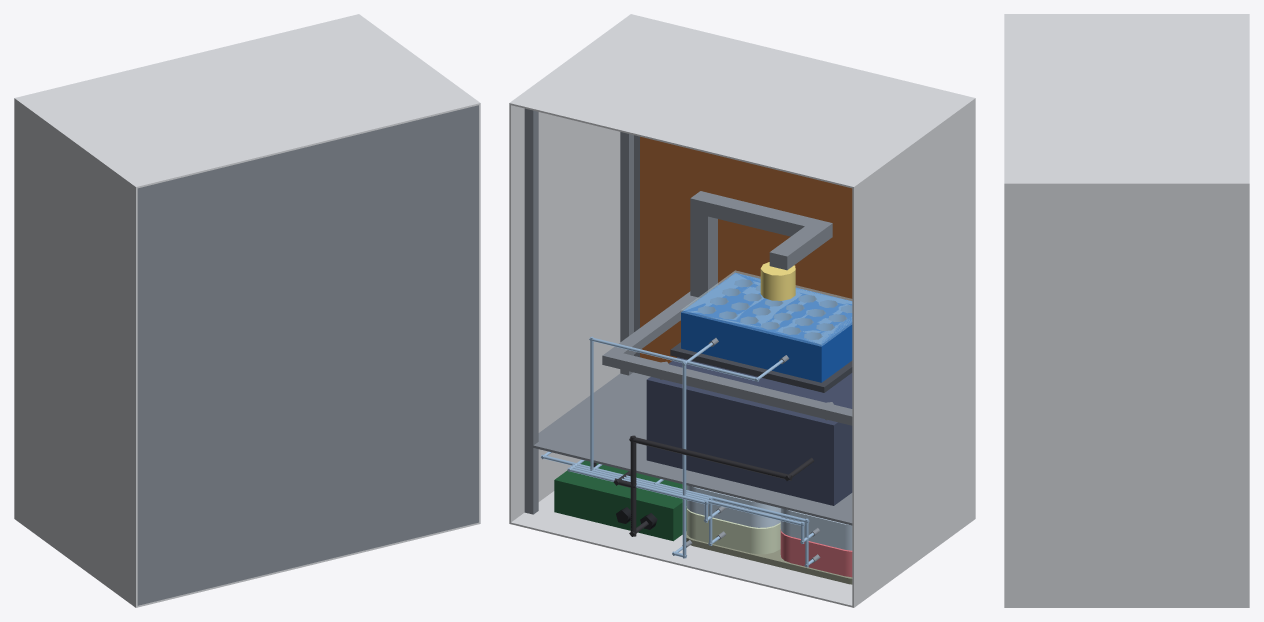
File: MOD-stem-cell-organoids.glb
The picture shows the model from 3 angles, left to right: view 1: azimuth 30°, elevation 25°; view 2: azimuth 150°, elevation 25°; view 3: azimuth 270°, elevation 25°; orthographic projection.
Visible parts, largest first — view 1: housing__back_panel_bay_interface, housing__side_panel_L, housing__top_panel, housing__bottom_panel, housing__side_panel_R; view 2: housing__side_panel_L, housing__top_panel, housing__side_panel_R, thermal__cold_wall_to_the_bay_s_thermoelectric_block, imaging__microscope_base_optics_filter_cubes_camera, sample__cassette_24_wells_SBS_footprint_19_3_mm_pitch, housing__shelf_1, housing__bottom_panel, sample__cassette_lid_sealed_and_gas_permeable, housing__corner_post_4, imaging__XY_stage_frame_travel_96_5_x_57_9_mm_every_well_ove, electronics__controller_enclosure_boards_data_storage (+17 smaller); view 3: housing__side_panel_R, housing__top_panel, housing__bottom_panel.
Part boxes in pixels (x1,y1,x2,y2): housing__back_panel_bay_interface: (137, 105, 478, 605); housing__side_panel_L: (14, 100, 137, 605); housing__top_panel: (14, 14, 480, 188); housing__bottom_panel: (14, 517, 480, 607); housing__side_panel_R: (479, 105, 480, 522); housing__side_panel_L: (852, 100, 975, 605); housing__top_panel: (509, 14, 975, 188); housing__side_panel_R: (509, 105, 620, 522); thermal__cold_wall_to_the_bay_s_thermoelectric_block: (640, 136, 852, 363); imaging__microscope_base_optics_filter_cubes_camera: (646, 357, 852, 505); sample__cassette_24_wells_SBS_footprint_19_3_mm_pitch: (681, 272, 852, 382); housing__shelf_1: (524, 372, 852, 525); housing__bottom_panel: (509, 491, 975, 607); sample__cassette_lid_sealed_and_gas_permeable: (681, 270, 852, 346); housing__corner_post_4: (524, 108, 538, 514); imaging__XY_stage_frame_travel_96_5_x_57_9_mm_every_well_ove: (602, 291, 852, 425); electronics__controller_enclosure_boards_data_storage: (554, 460, 686, 541); housing__side_panel_R: (1004, 185, 1249, 606); housing__top_panel: (1004, 14, 1249, 185); housing__bottom_panel: (1004, 606, 1249, 607).
Size of the model in its own units: 0.313 by 0.3652 by 0.1913.
